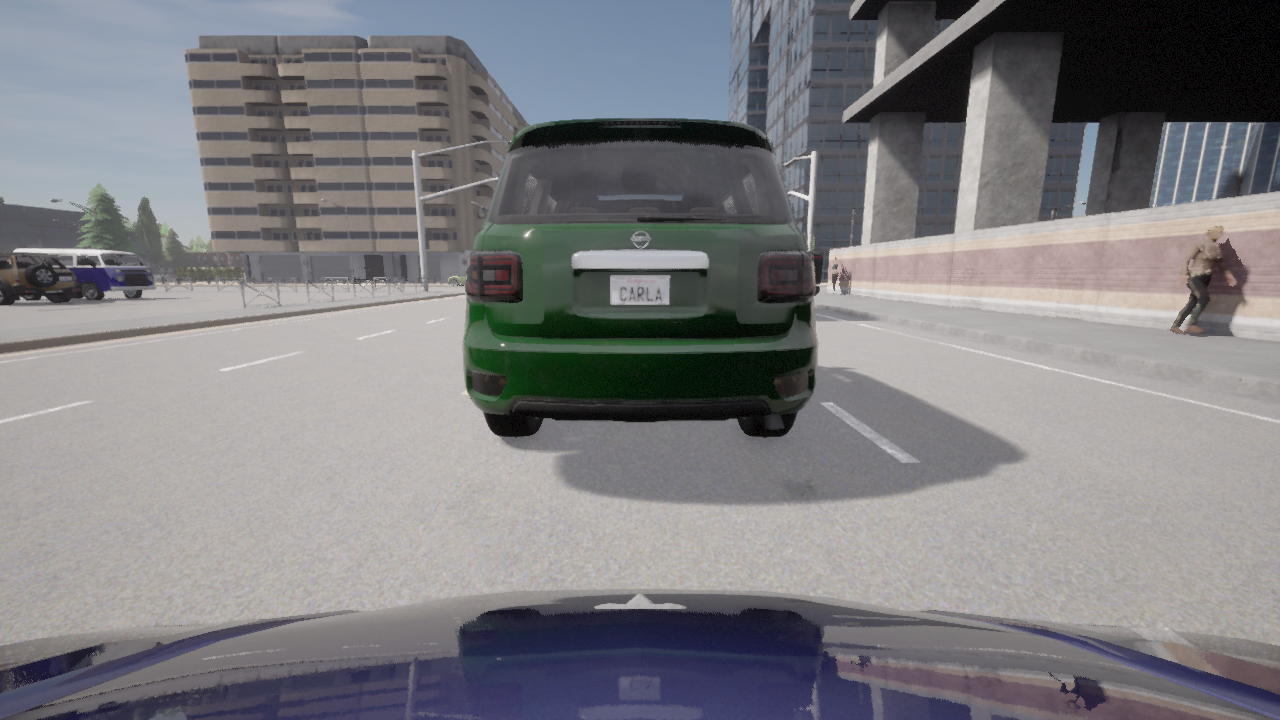cyclist: (0, 588, 1279, 719), (463, 118, 817, 436), (13, 249, 155, 300), (809, 252, 822, 295), (446, 271, 464, 287)
pedestrian: (1168, 225, 1235, 335), (828, 257, 840, 294)
